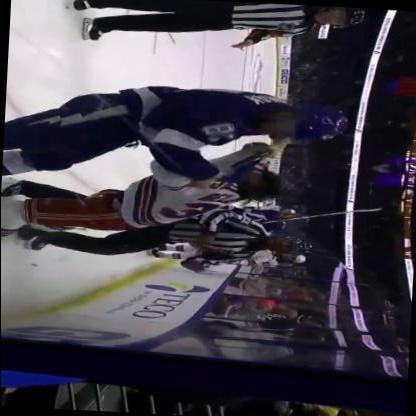non-Voilence: (66, 0, 368, 61)
voilence: (1, 77, 348, 245)
